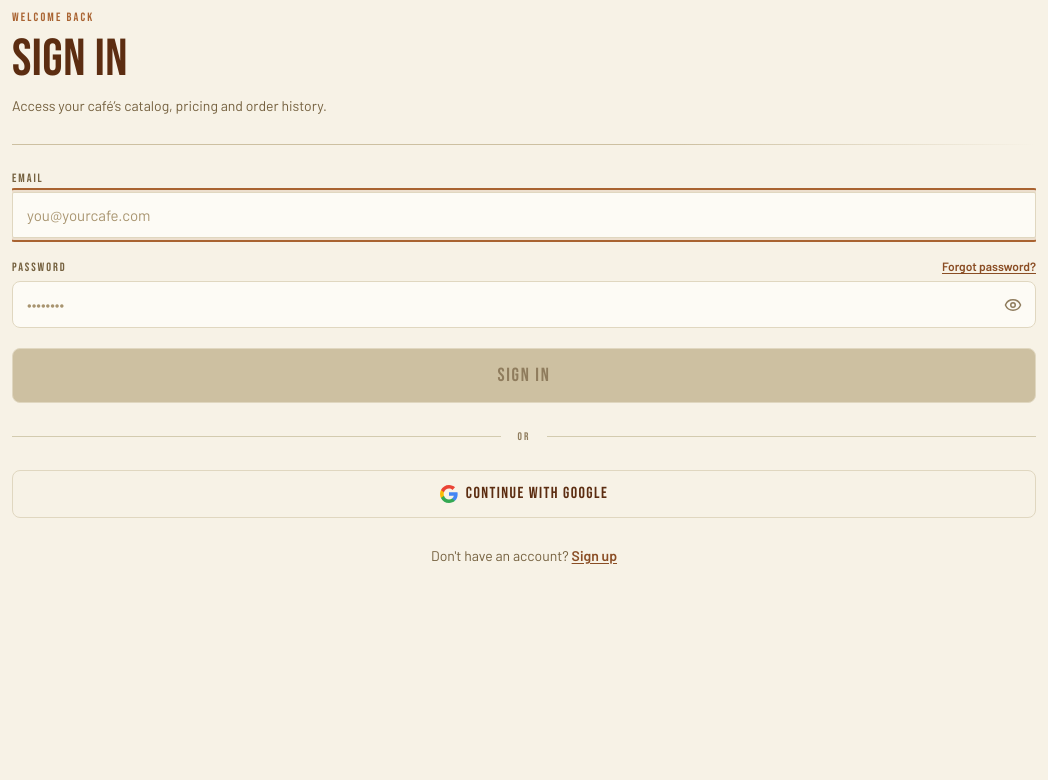
Test: LoginForm — email sign-in › shows an error message when sign-in fails
Type "cafe@example.com" into the field labelled "Email" at (524, 215), box [12,192,1036,238]
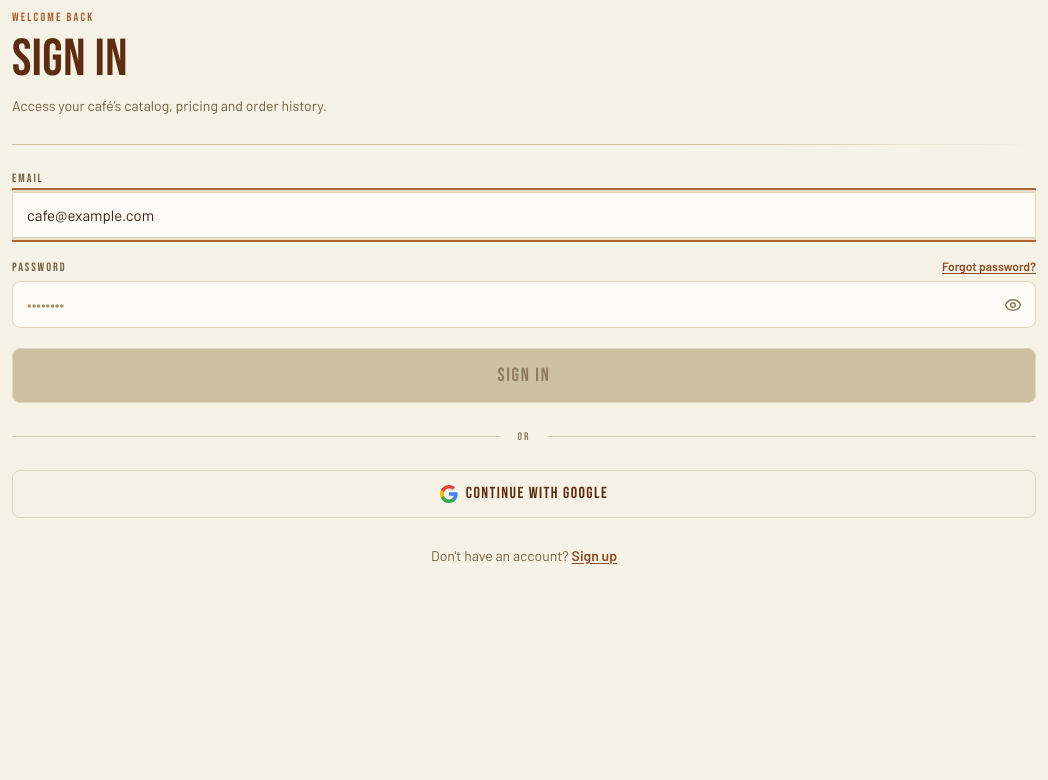
Type "wrongpassword" into the password field labelled "Password" at (524, 305), box [12,281,1036,328]
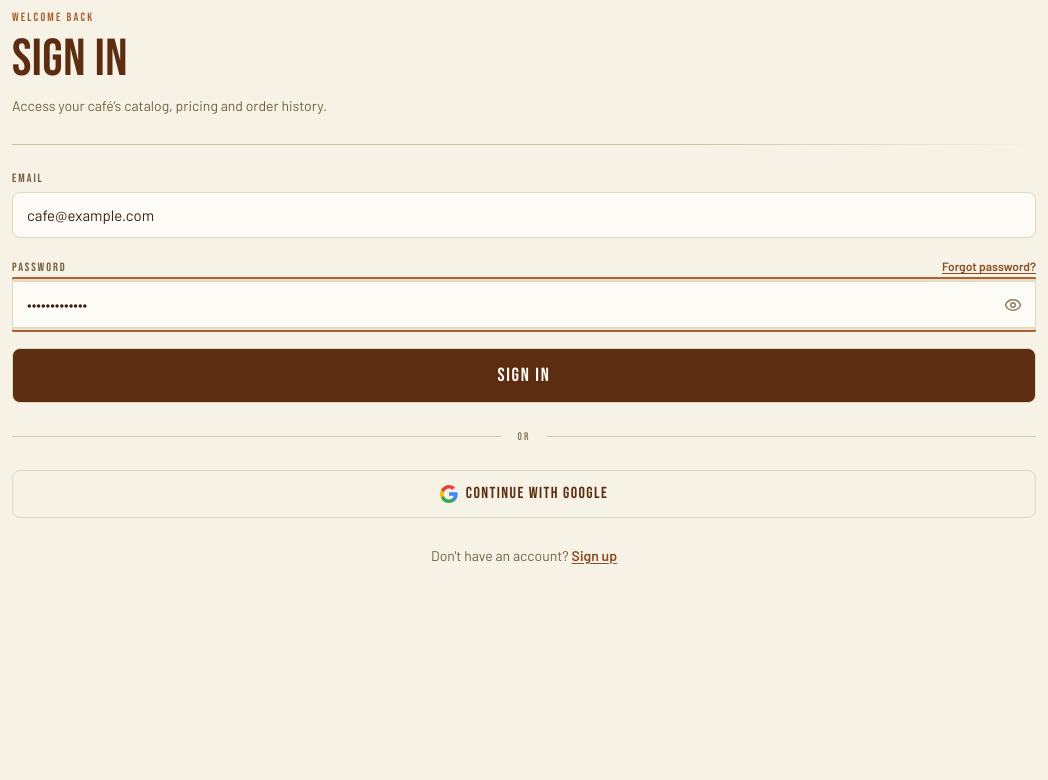
Click the button "Sign in" at (524, 375), box [12,348,1036,403]
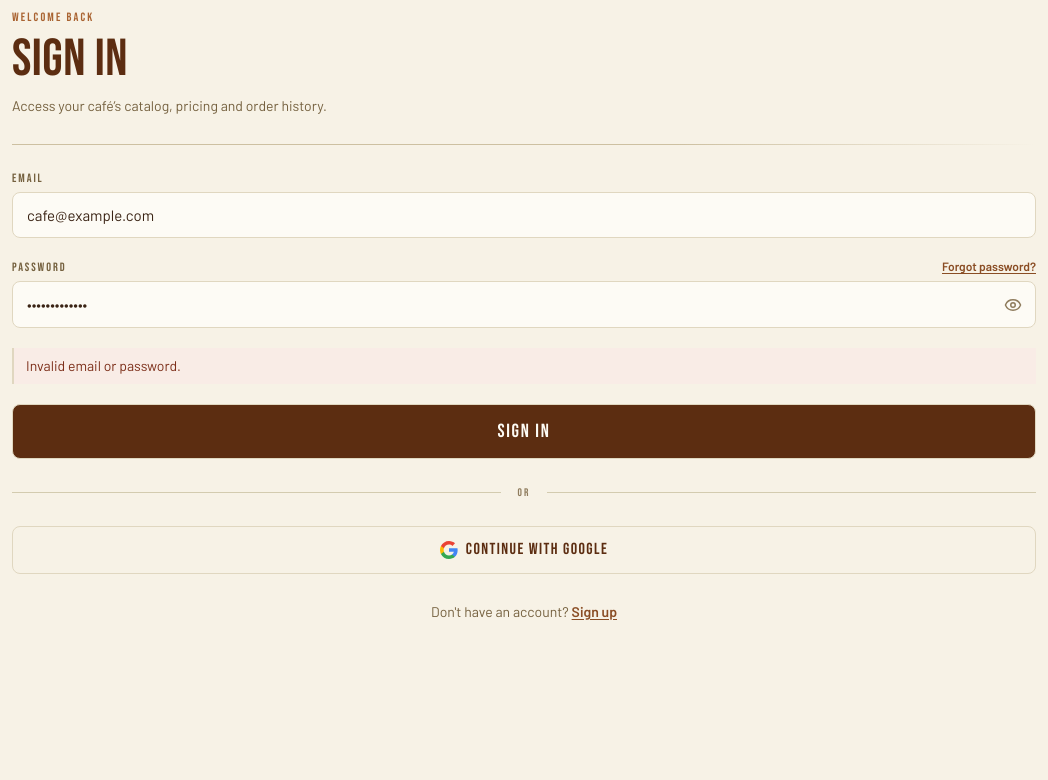
Expected: the text "Invalid email or password." is shown, [26,357,181,374]
